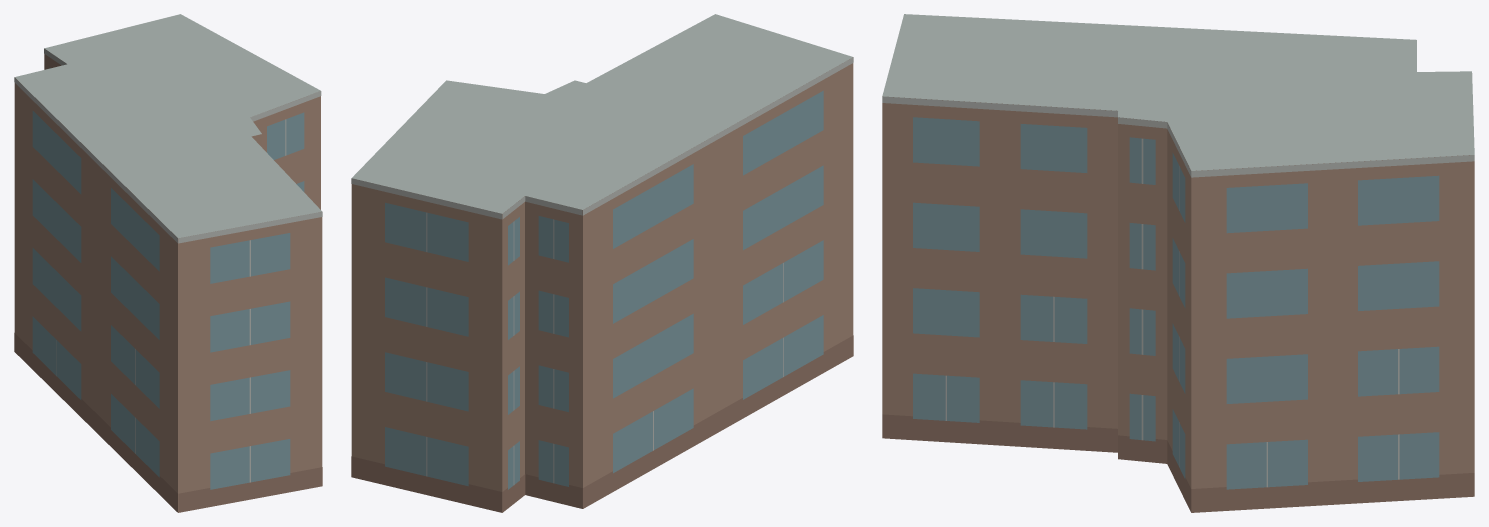
The model's file is survey-upis-32622466.glb.
The picture shows the model from 3 angles, left to right: view 1: azimuth 30°, elevation 25°; view 2: azimuth 150°, elevation 25°; view 3: azimuth 270°, elevation 25°; orthographic projection. The views are drawn at different scales.
Parts seen in each view (by area): view 1: survey-upis-32622466.tmp; view 2: survey-upis-32622466.tmp; view 3: survey-upis-32622466.tmp.
Boxes of the visible parts, x1=… form: survey-upis-32622466.tmp: x1=14, y1=14, x2=322, y2=512; survey-upis-32622466.tmp: x1=351, y1=14, x2=853, y2=512; survey-upis-32622466.tmp: x1=882, y1=14, x2=1474, y2=512.
Bounding box in the file's own units: 12.52 × 12.7 × 19.96.
